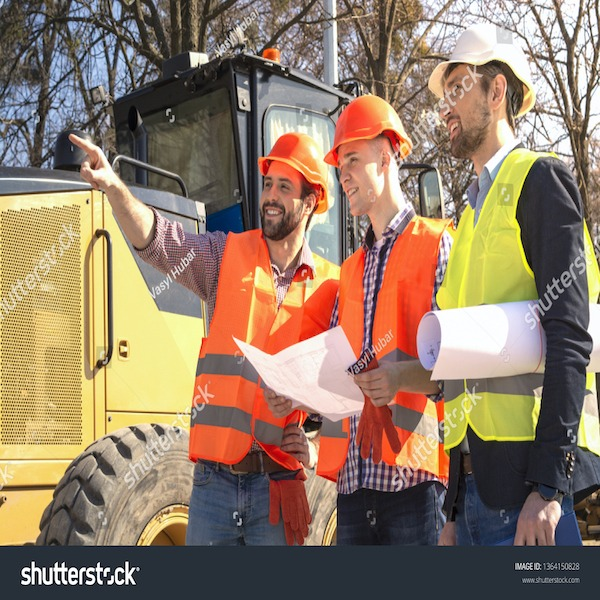helmet: (436, 23, 537, 83), (258, 125, 331, 183), (326, 98, 408, 149)
vest: (443, 151, 580, 443), (197, 226, 316, 466), (335, 247, 440, 465)
